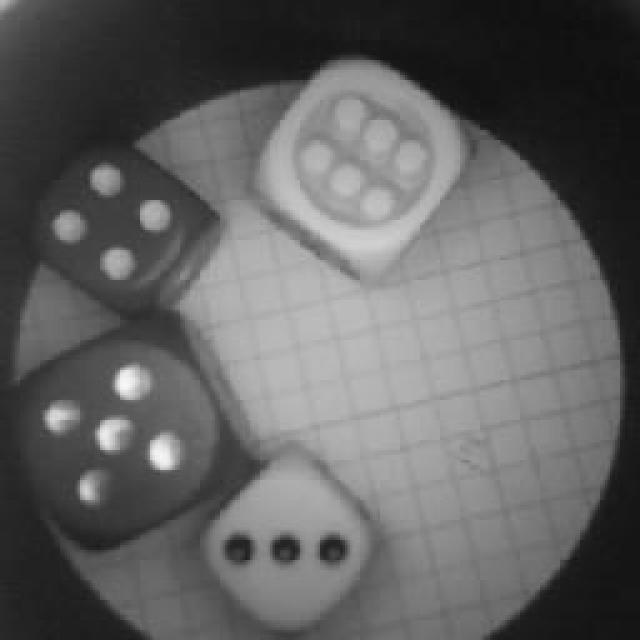dice_4: (25, 128, 207, 318)
dice_5: (0, 308, 248, 548)
dice_6: (253, 45, 475, 280)
